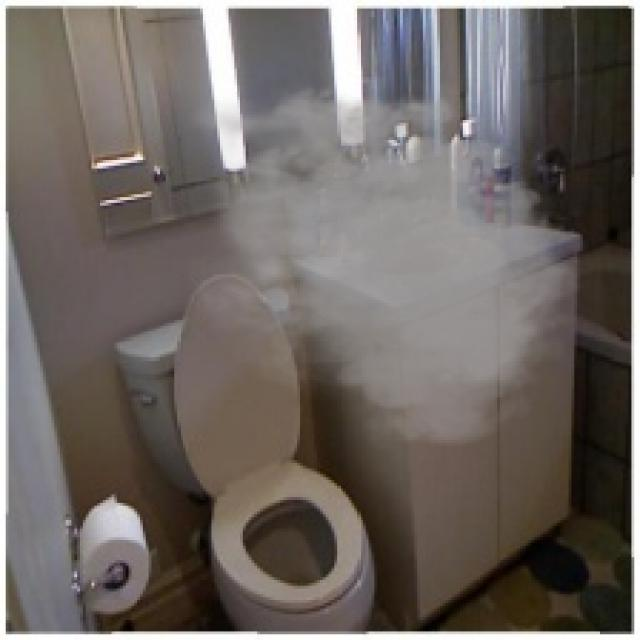smoke: (177, 69, 592, 457)
